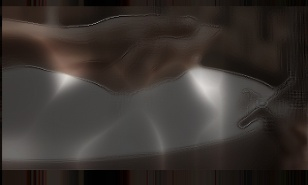washing hand: (91, 9, 233, 110)
